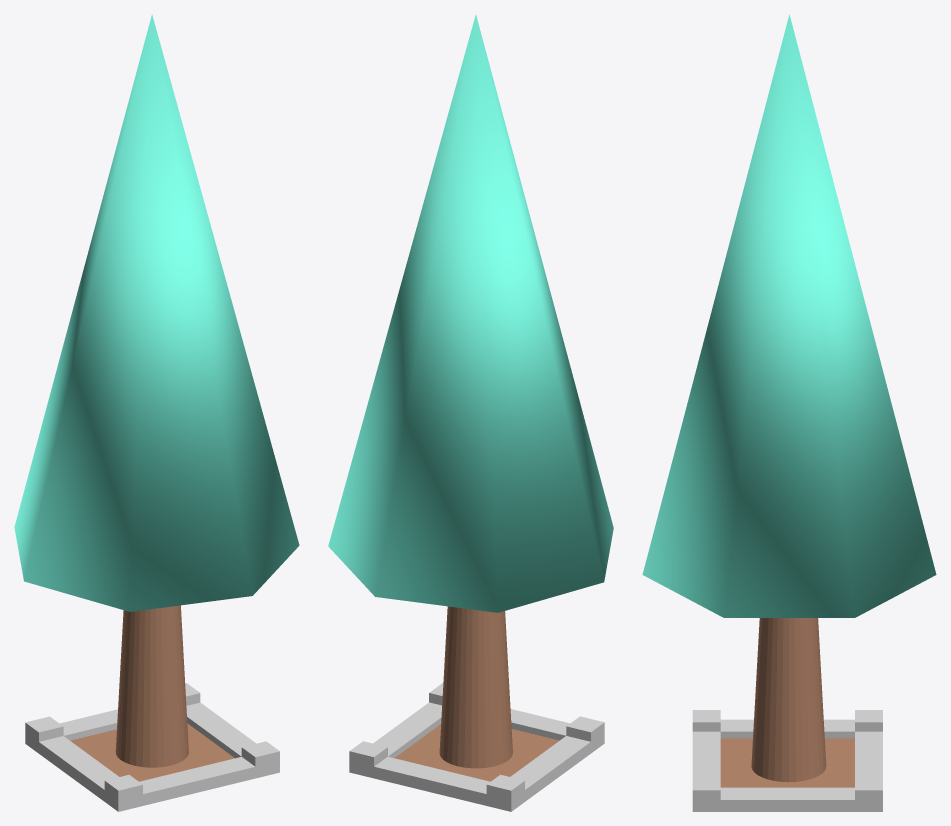
File: Tree 1.fbx
3 views of the same model, side by side, from view 1: azimuth 30°, elevation 25°; view 2: azimuth 150°, elevation 25°; view 3: azimuth 270°, elevation 25° (orthographic).
Visible parts, largest first — view 1: Circle.002; view 2: Circle.002; view 3: Circle.002.
Boxes of the visible parts, left/top/right/bottom form: Circle.002: left=14, top=14, right=299, bottom=811; Circle.002: left=328, top=14, right=613, bottom=811; Circle.002: left=642, top=14, right=936, bottom=811.
Bounding box in the file's own units: 301 × 882 × 309.
